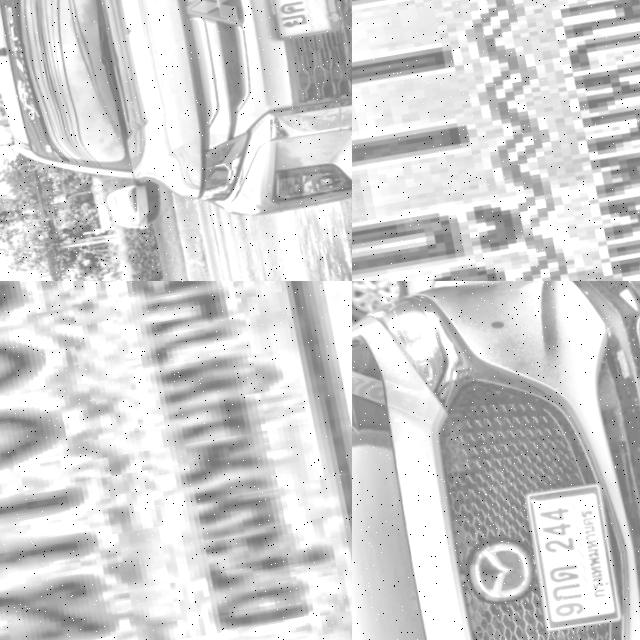license-plate: (0, 281, 352, 640), (352, 0, 640, 281), (517, 479, 628, 626), (253, 0, 340, 39)
